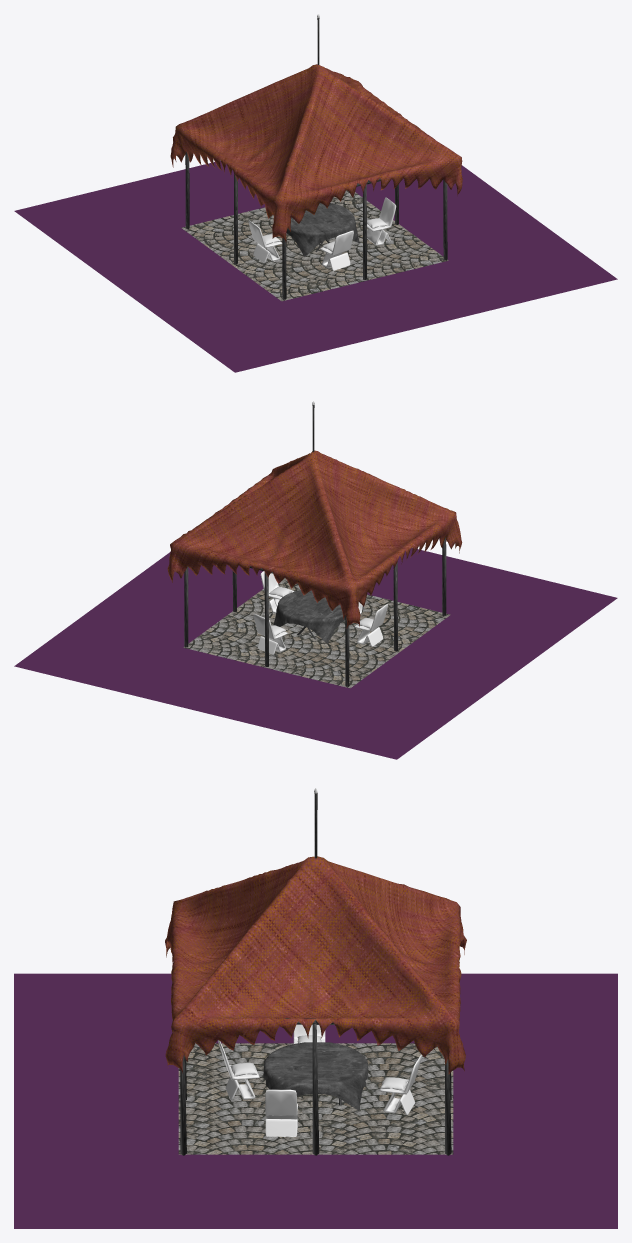
File: Scena1.fbx
The picture shows the model from 3 angles, top to bottom: view 1: azimuth 30°, elevation 25°; view 2: azimuth 150°, elevation 25°; view 3: azimuth 270°, elevation 25°; orthographic projection. The views are drawn at different scales.
Parts seen in each view (by area): view 1: Plane.004, Tenda, Tappeto, Tavolo, Cylinder.035, Chair.003, Chair.002, Chair; view 2: Plane.004, Tenda, Tappeto, Cylinder.035, Tavolo, Chair.001, Chair; view 3: Plane.004, Tenda, Tappeto, Tavolo, Cylinder.035, Chair.002, Chair.001, Chair.003.
Boxes of the visible parts, x1,y1,x2,y2 form: Plane.004: [14, 161, 617, 372]; Tenda: [170, 64, 462, 242]; Tappeto: [181, 190, 448, 301]; Tavolo: [286, 203, 359, 256]; Cylinder.035: [185, 14, 447, 299]; Chair.003: [320, 230, 353, 270]; Chair.002: [362, 197, 396, 245]; Chair: [248, 220, 282, 263]; Plane.004: [14, 548, 617, 759]; Tenda: [167, 450, 462, 628]; Tappeto: [183, 578, 450, 688]; Cylinder.035: [184, 401, 446, 686]; Tavolo: [273, 590, 345, 643]; Chair.001: [253, 614, 287, 654]; Chair: [354, 604, 387, 646]; Plane.004: [14, 973, 617, 1228]; Tenda: [165, 856, 466, 1074]; Tappeto: [178, 1043, 453, 1154]; Tavolo: [263, 1042, 368, 1110]; Cylinder.035: [180, 788, 451, 1155]; Chair.002: [265, 1089, 297, 1136]; Chair.001: [379, 1054, 422, 1114]; Chair.003: [218, 1040, 259, 1100].
Bounding box in the file's own units: 40000 × 22983 × 40000.
